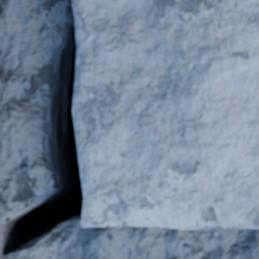brick: (73, 0, 258, 229), (0, 83, 3, 159)
crack: (0, 2, 84, 256)
